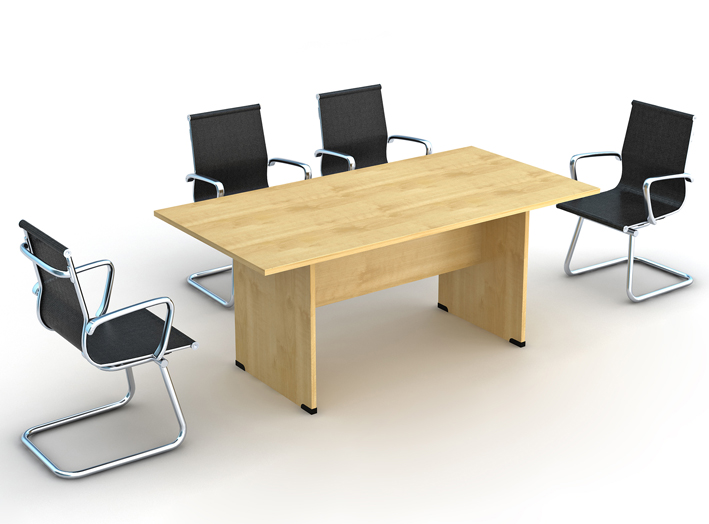conference_table: (154, 145, 602, 415)
